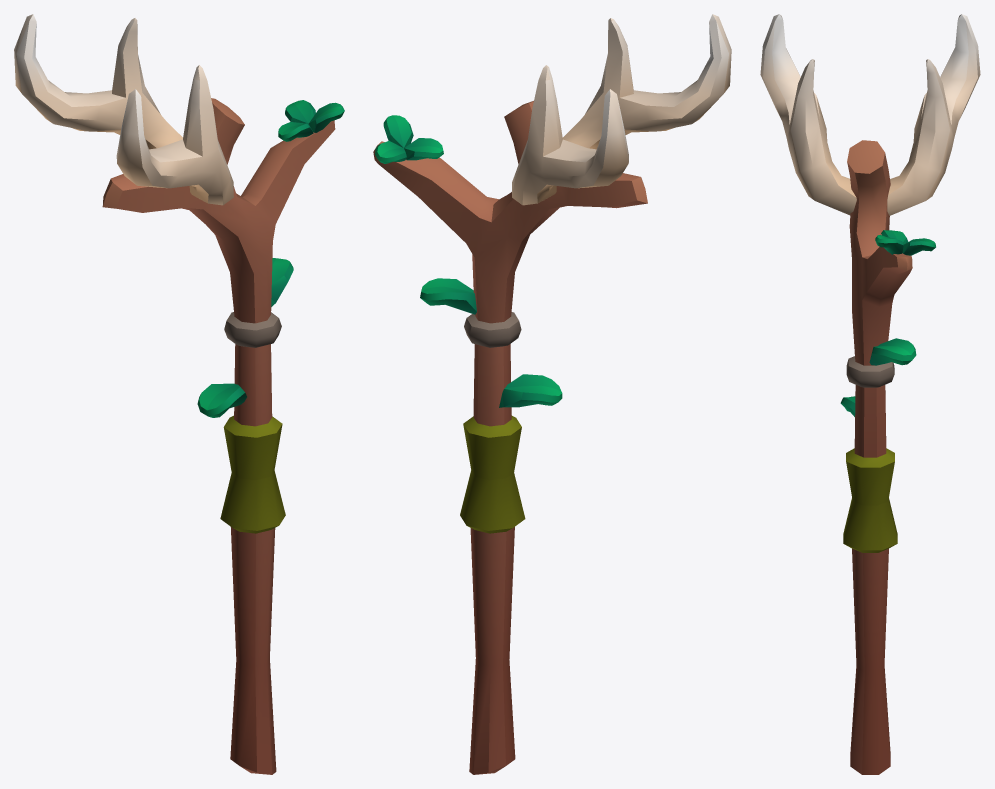
Rendered from druid_staff.gltf.
The picture shows the model from 3 angles, left to right: view 1: azimuth 30°, elevation 25°; view 2: azimuth 150°, elevation 25°; view 3: azimuth 270°, elevation 25°; orthographic projection. The views are drawn at different scales.
Visible parts, largest first — view 1: druid_staff; view 2: druid_staff; view 3: druid_staff.
Part boxes in pixels (x1,y1,x2,y2): druid_staff: (14, 14, 344, 774); druid_staff: (373, 14, 731, 774); druid_staff: (760, 14, 980, 774).
Bounding box in the file's own units: 0.8741 × 2.26 × 0.6621.
1 material, 1 textured.
